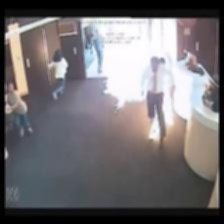fire: (93, 18, 192, 145)
